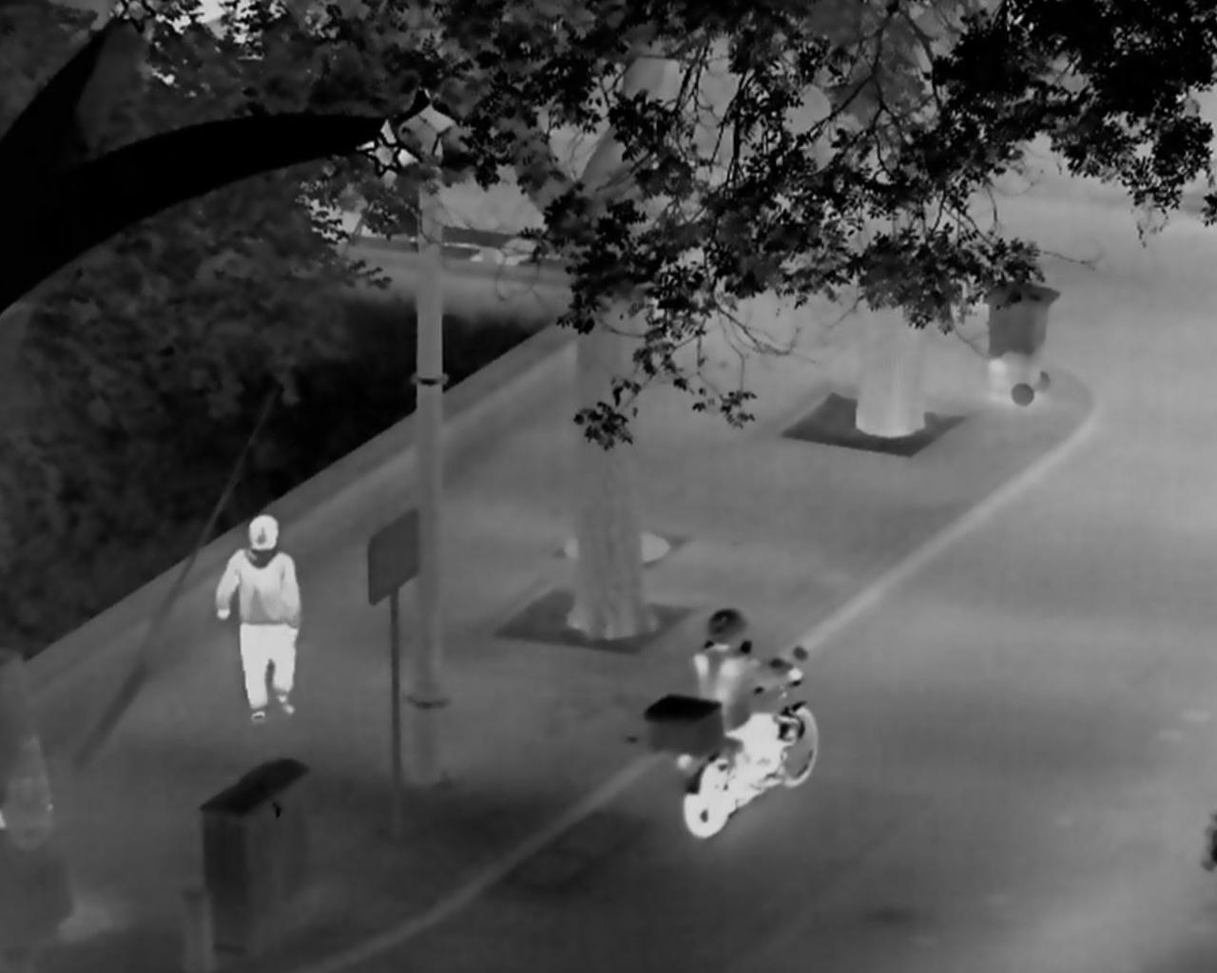person: (687, 606, 803, 787), (212, 512, 301, 725)
